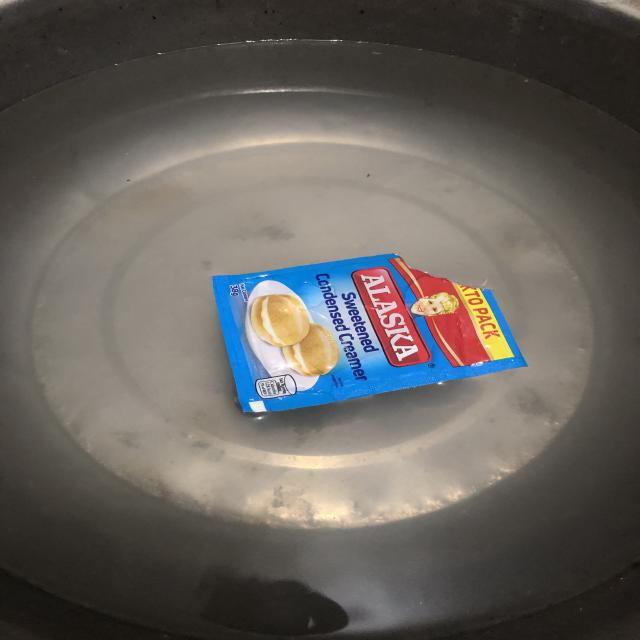Plastic Wrapper: (193, 240, 556, 435)
